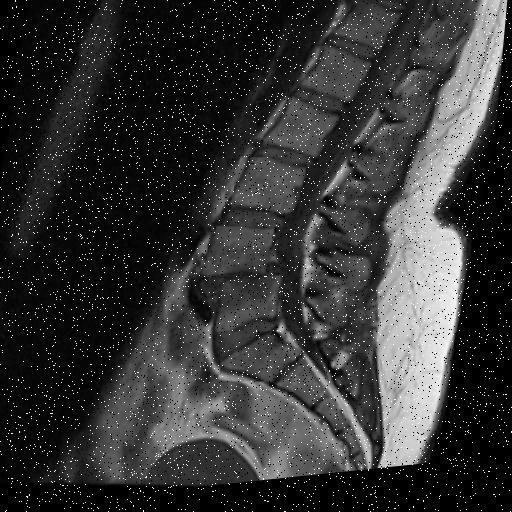L1: (304, 53, 373, 109)
L2: (267, 104, 340, 163)
L3: (235, 163, 310, 220)
L4: (208, 231, 279, 282)
L5: (221, 282, 285, 337)
S1: (228, 340, 305, 389)
